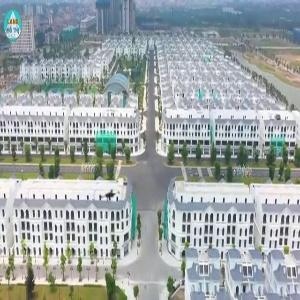drone: (88, 173, 132, 217)
